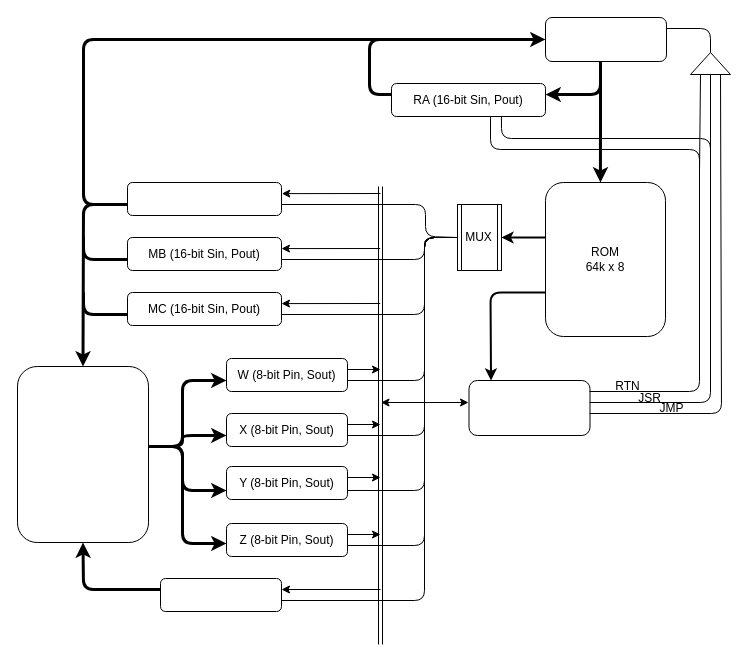
This 748x662 diagram has some shape labels left out. The shapes that lost their labels are listed below. From the top down, each one's centre as x and y in pixels, then its label:
point 605,39: PC (16-bit)
point 204,199: MA (16-bit Sin, Pout)
point 529,408: UE14500
point 82,454: RAM 64k x 8
point 221,595: A (8-bit Sin, Pout)
